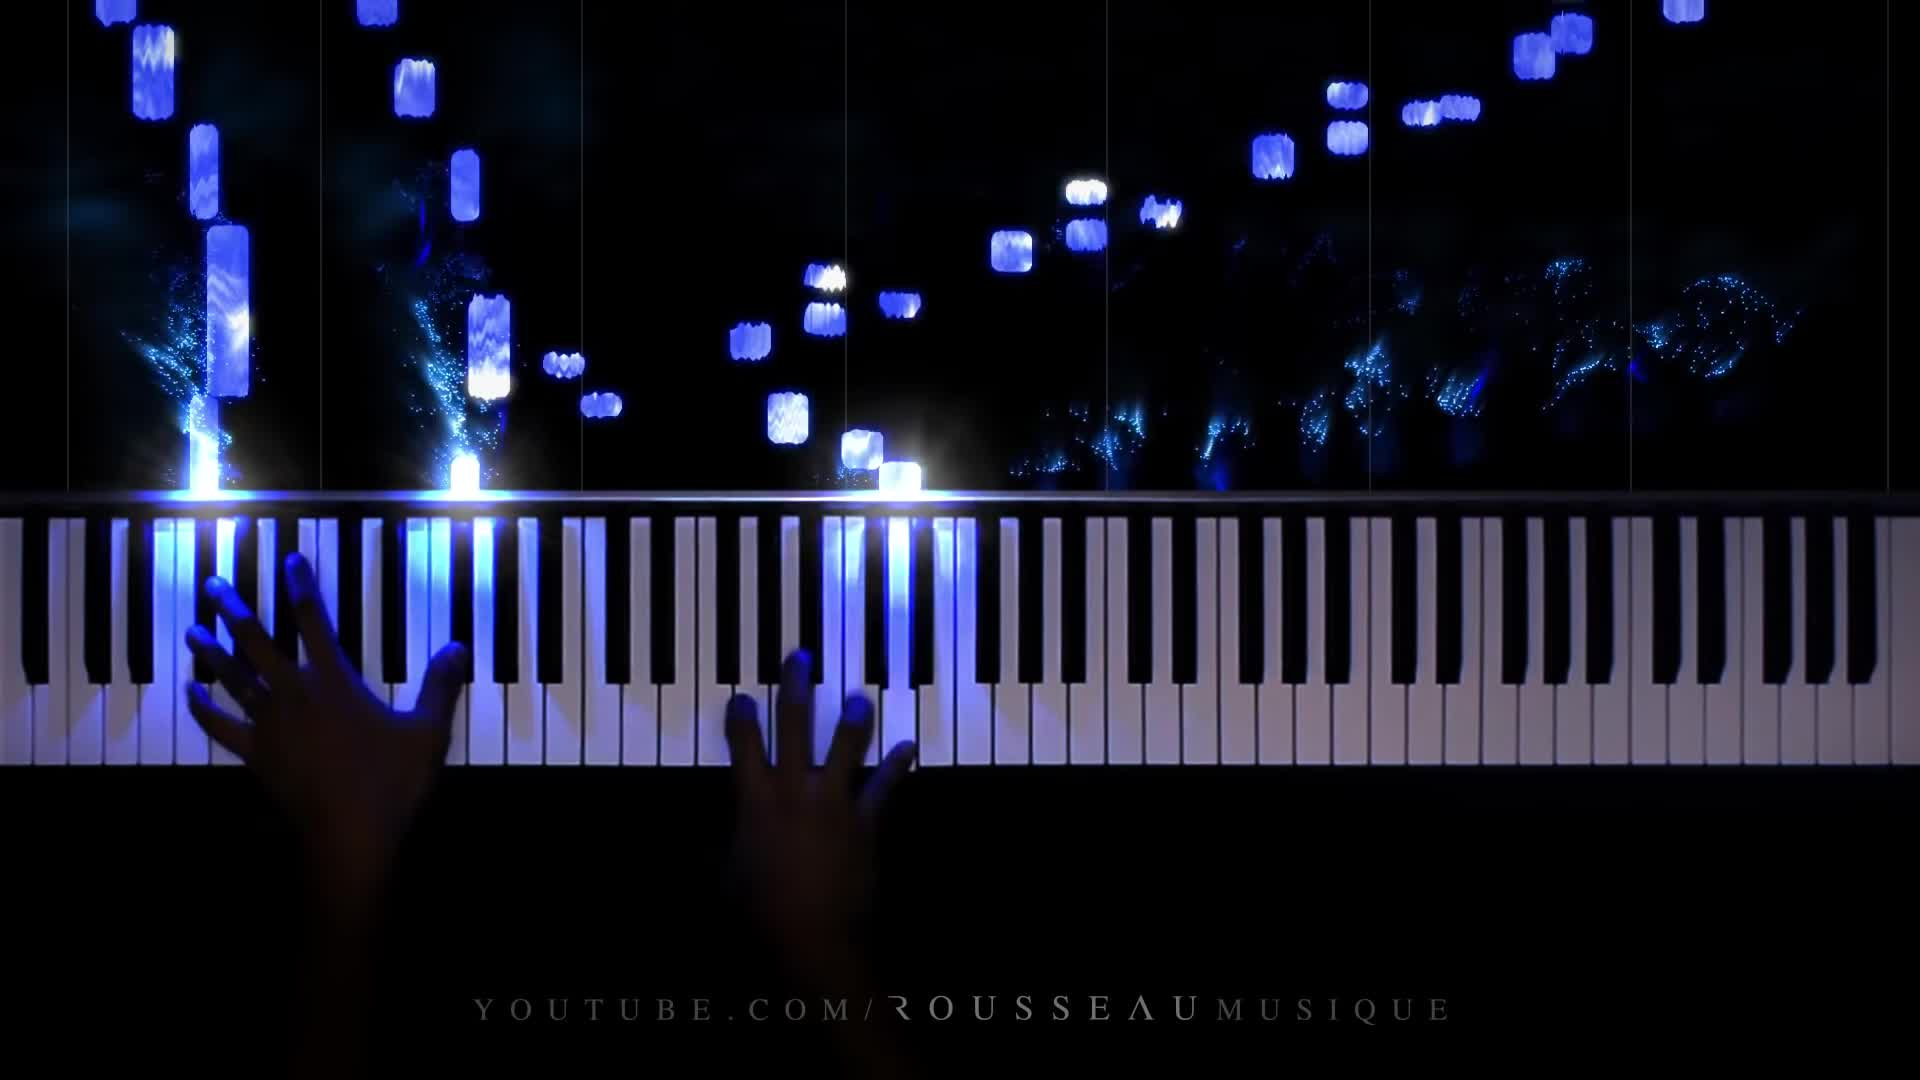left: (185, 549, 475, 818)
right: (682, 647, 918, 934)
